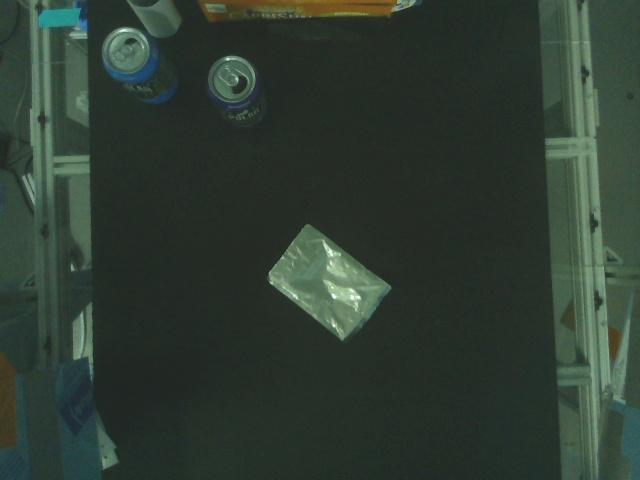cardboard: (194, 0, 427, 26), (125, 0, 184, 40)
metal: (98, 25, 183, 110), (201, 51, 273, 135)
plastic: (262, 220, 395, 348)
